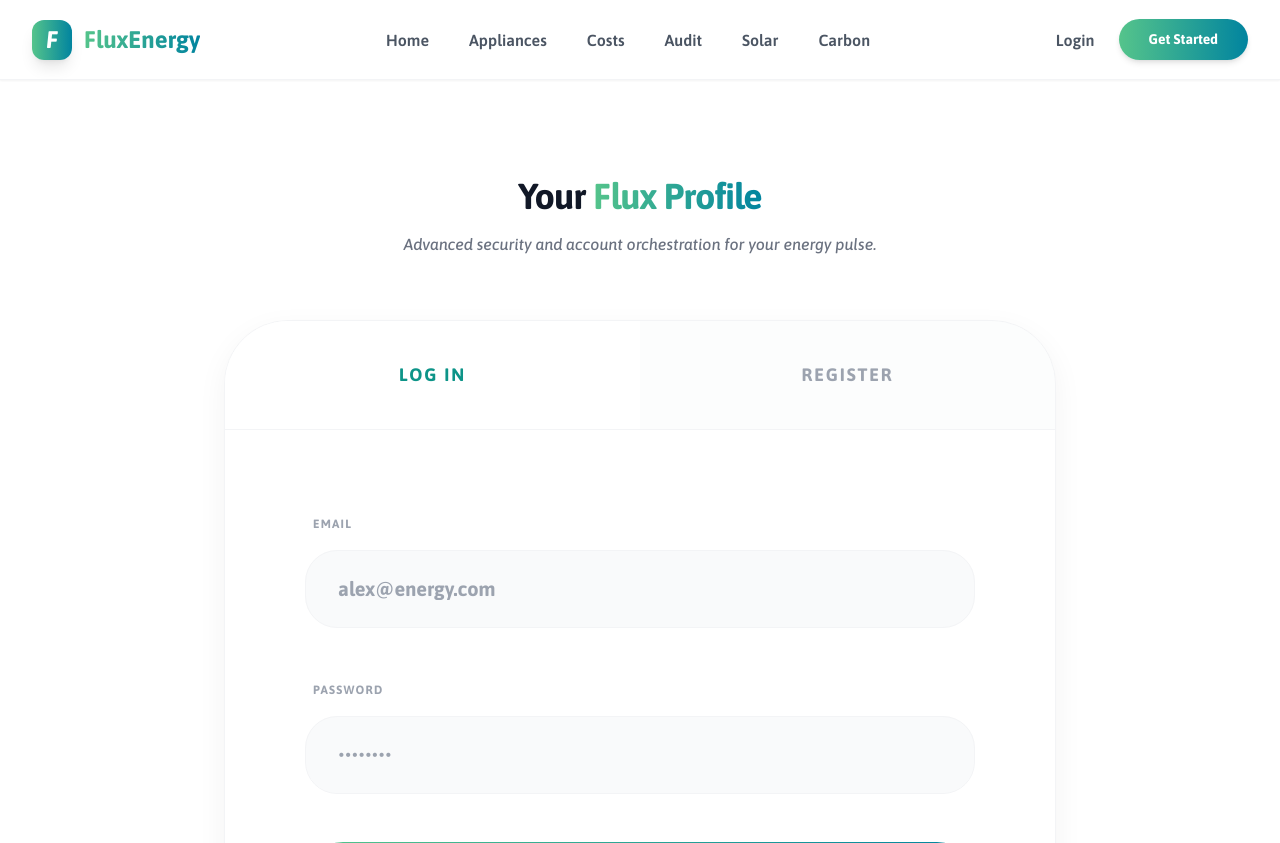
Scenario: UserManagement › shows password mismatch during registration
This screenshot has width=1280, height=843.
Click the button "Register" at (848, 375), box [640,321,1055,429]
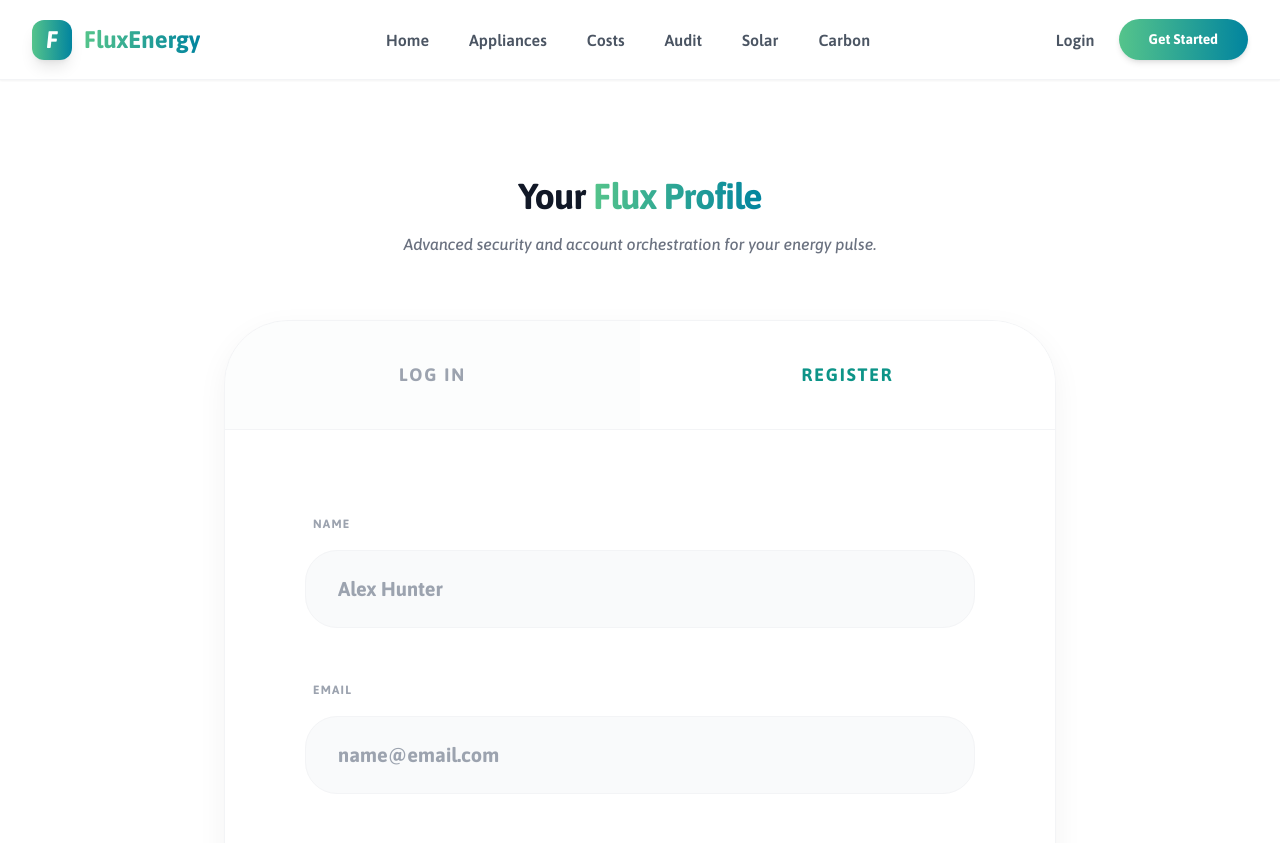
Type "Alice" into the field with placeholder "Alex Hunter" at (640, 589), box [305,550,975,628]
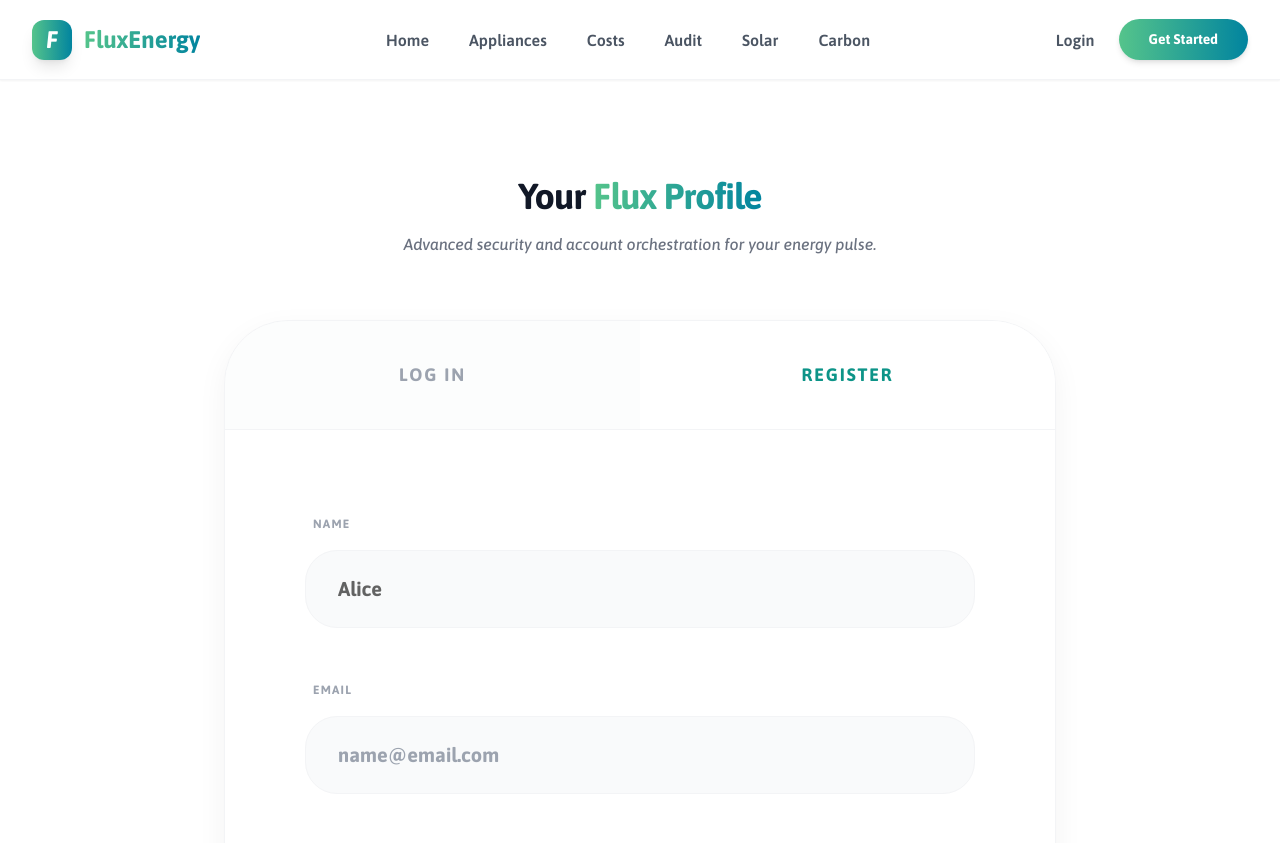
Type "alice@example.com" into the field with placeholder "name@email.com" at (640, 755), box [305,716,975,794]
(page scrolled)
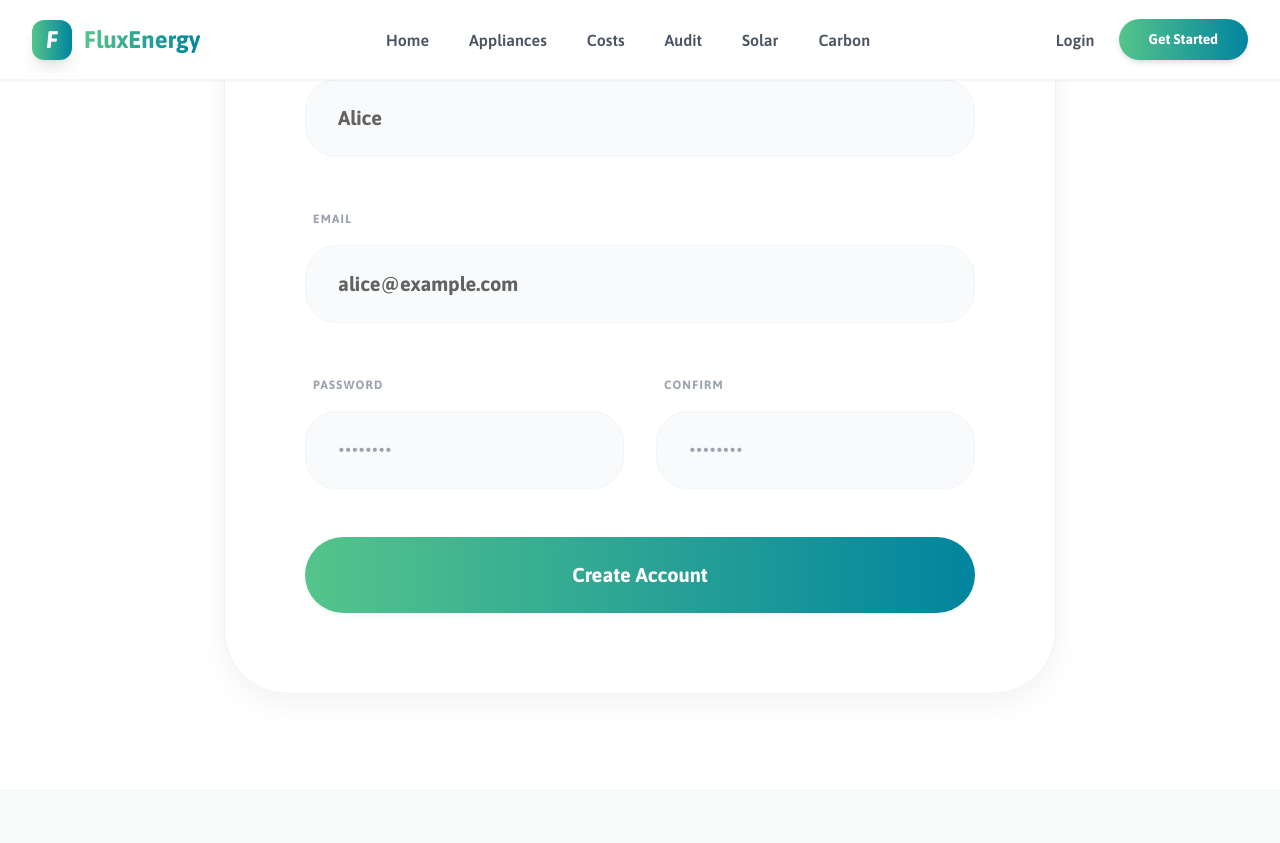
Type "secret123" into the password field with placeholder "••••••••" below "Password" at (464, 450), box [305,411,624,489]
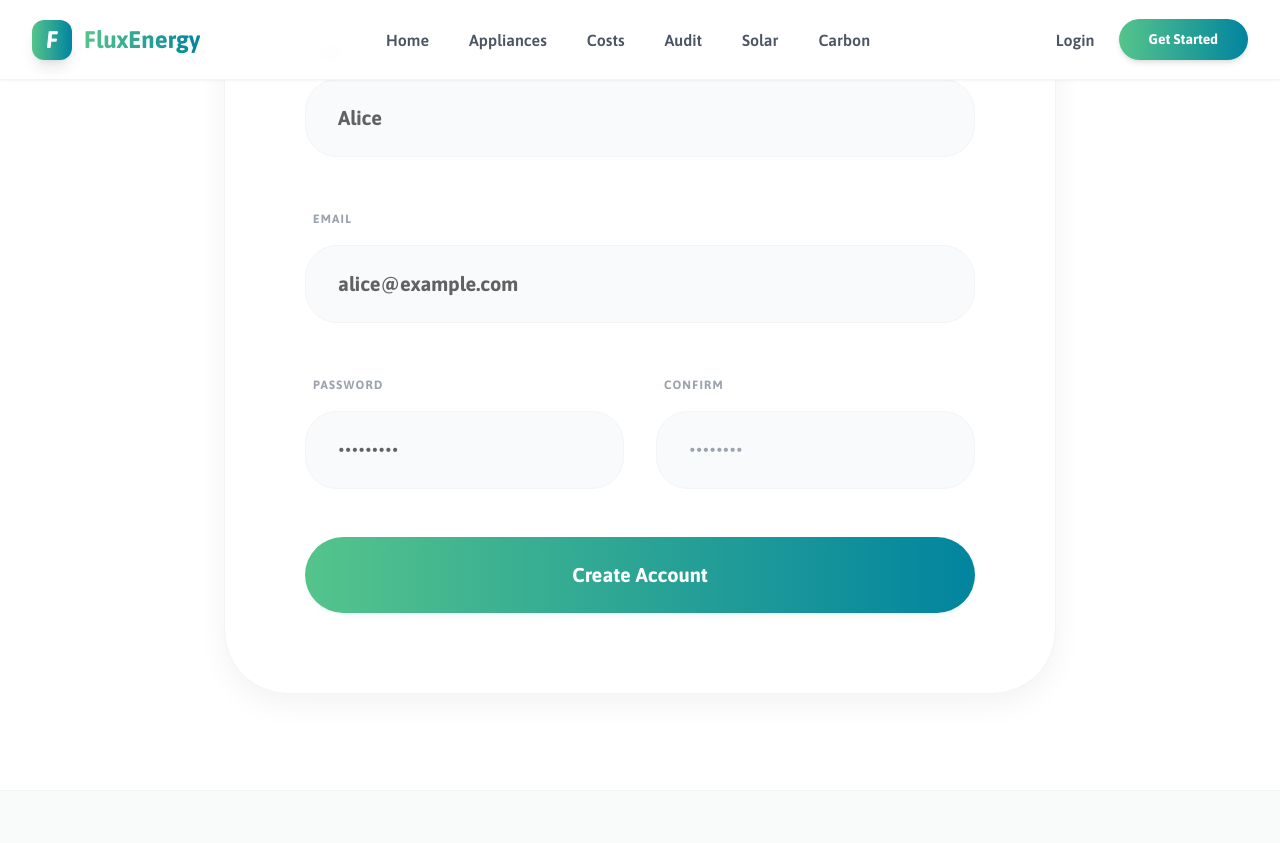
Type "different123" into the password field with placeholder "••••••••" at (816, 450), box [656,411,975,489]
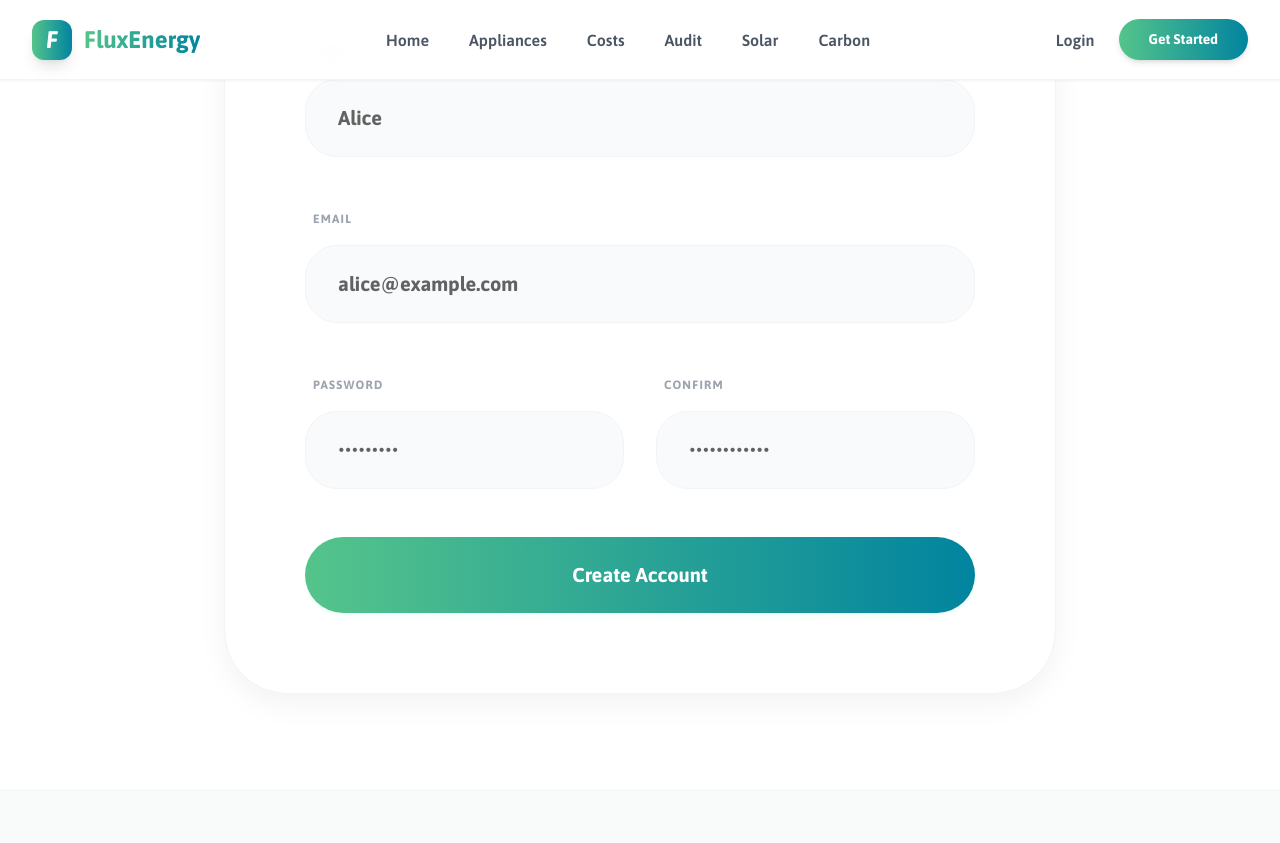
Click the button "Create Account" at (640, 575), box [305,537,975,613]
(page scrolled)
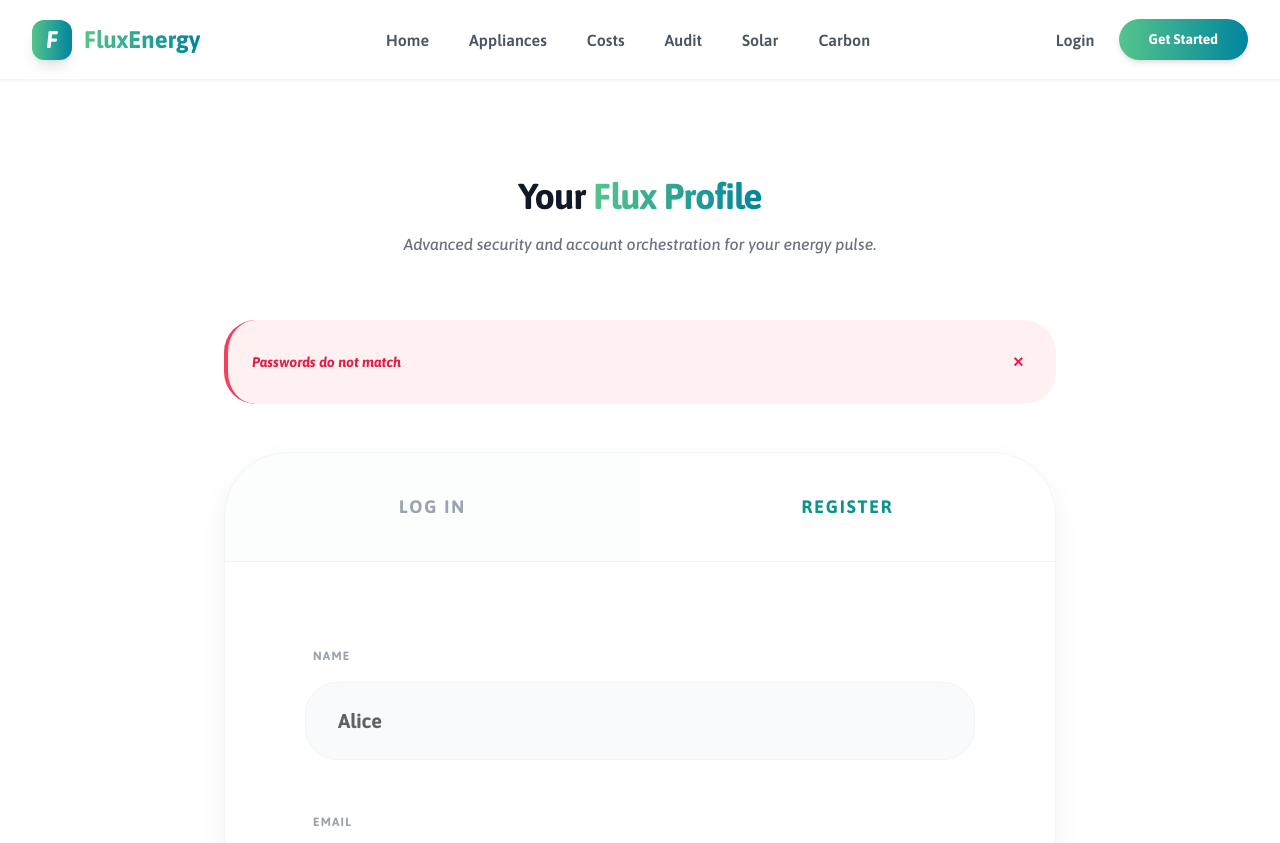
Expected: the text "Passwords do not match" is shown, [252,352,401,372]
